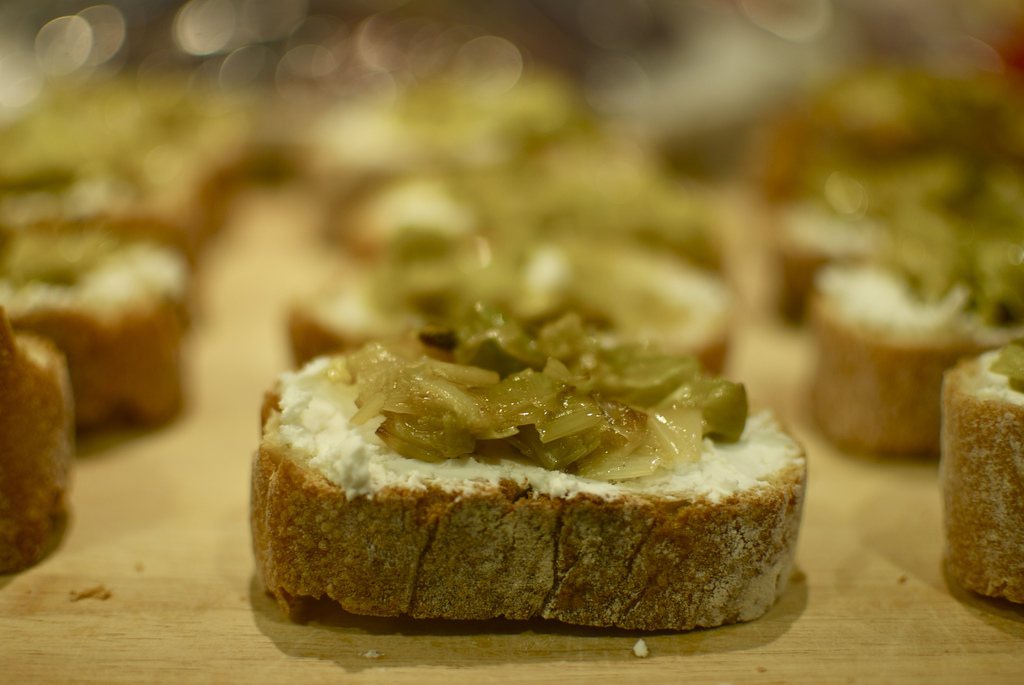slice of bread: (257, 394, 791, 641)
